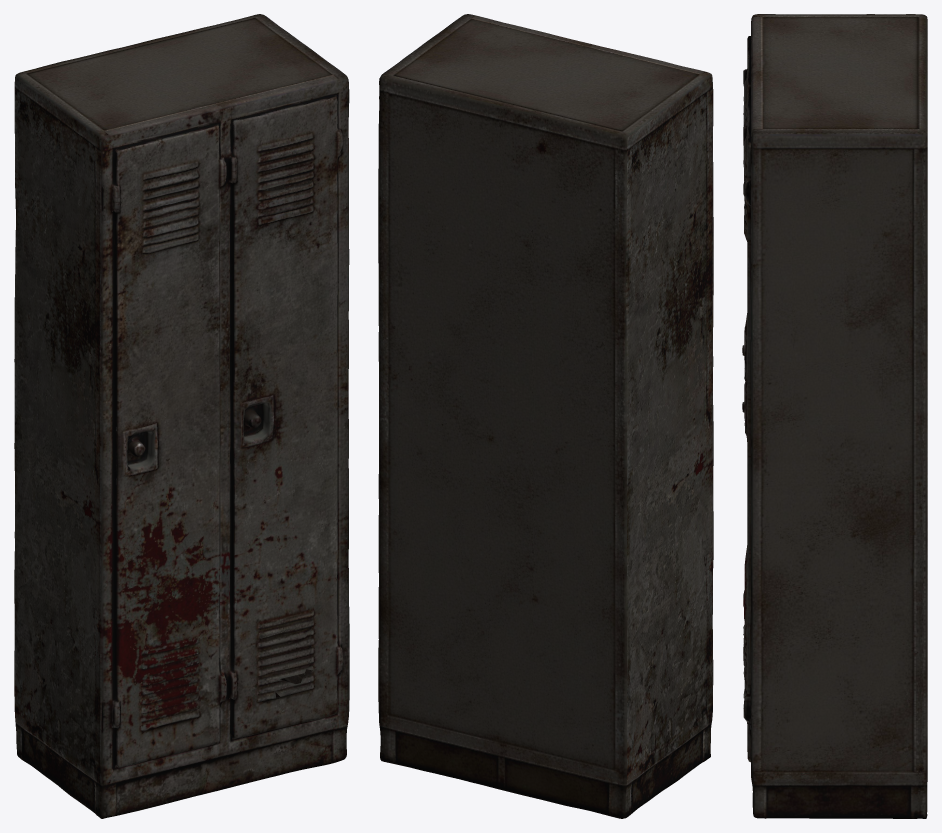
File: aged+metal+locker+3d+model.glb
3 renders of one model, left to right at view 1: azimuth 30°, elevation 25°; view 2: azimuth 150°, elevation 25°; view 3: azimuth 270°, elevation 25°, orthographic.
Visible parts, largest first — view 1: tripo_node_eb9e8d77-537a-4b4e-ae01-4adaa720e2d0; view 2: tripo_node_eb9e8d77-537a-4b4e-ae01-4adaa720e2d0; view 3: tripo_node_eb9e8d77-537a-4b4e-ae01-4adaa720e2d0.
Part boxes in pixels (x1=…): tripo_node_eb9e8d77-537a-4b4e-ae01-4adaa720e2d0: x1=14, y1=14, x2=349, y2=818; tripo_node_eb9e8d77-537a-4b4e-ae01-4adaa720e2d0: x1=378, y1=14, x2=713, y2=818; tripo_node_eb9e8d77-537a-4b4e-ae01-4adaa720e2d0: x1=742, y1=14, x2=927, y2=818.
Bounding box in the file's own units: 0.3717 × 0.9773 × 0.2393.
Materials: 1 (1 with a texture image).
